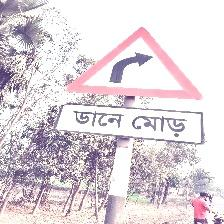Right-turn: (61, 28, 206, 144)
